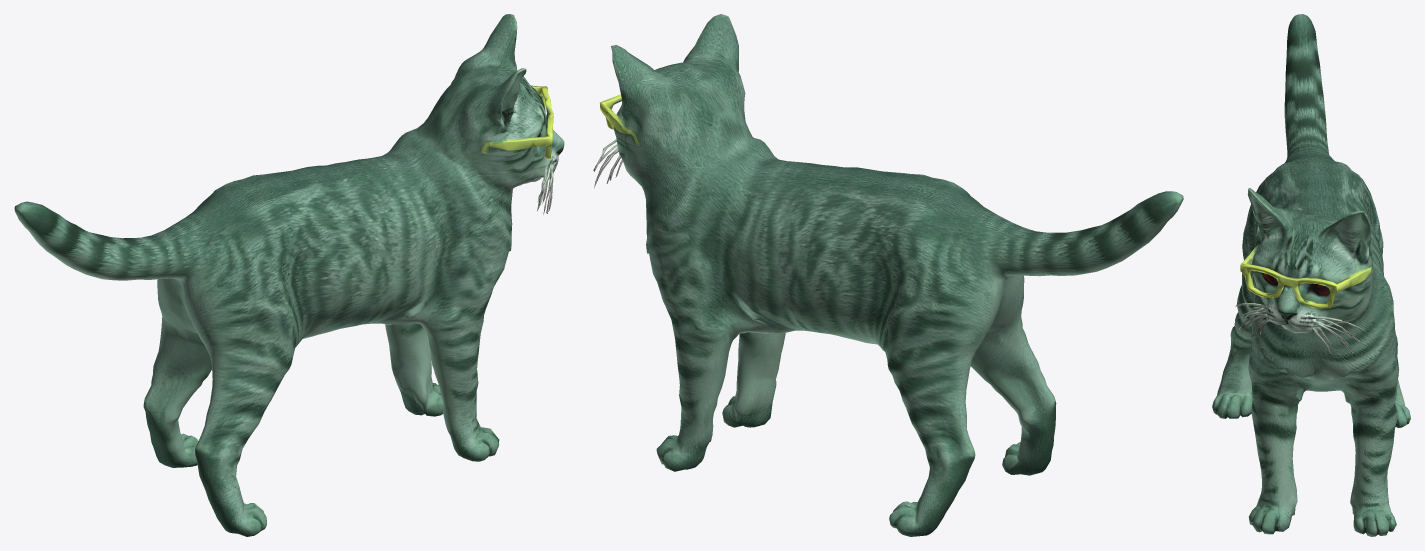
Rendered from KNITPAW.glb.
The picture shows the model from 3 angles, left to right: view 1: azimuth 30°, elevation 25°; view 2: azimuth 150°, elevation 25°; view 3: azimuth 270°, elevation 25°; orthographic projection. The views are drawn at different scales.
Visible parts, largest first — view 1: tripo_node_876a0ba1-cef4-49b9-842b-310cd42fea12; view 2: tripo_node_876a0ba1-cef4-49b9-842b-310cd42fea12; view 3: tripo_node_876a0ba1-cef4-49b9-842b-310cd42fea12.
Boxes of the visible parts, left/top/right/bottom form: tripo_node_876a0ba1-cef4-49b9-842b-310cd42fea12: left=14, top=14, right=564, bottom=536; tripo_node_876a0ba1-cef4-49b9-842b-310cd42fea12: left=593, top=14, right=1183, bottom=536; tripo_node_876a0ba1-cef4-49b9-842b-310cd42fea12: left=1212, top=14, right=1410, bottom=536.
Bounding box in the file's own units: 1.49 × 1 × 0.5079.
1 material, 1 textured.
